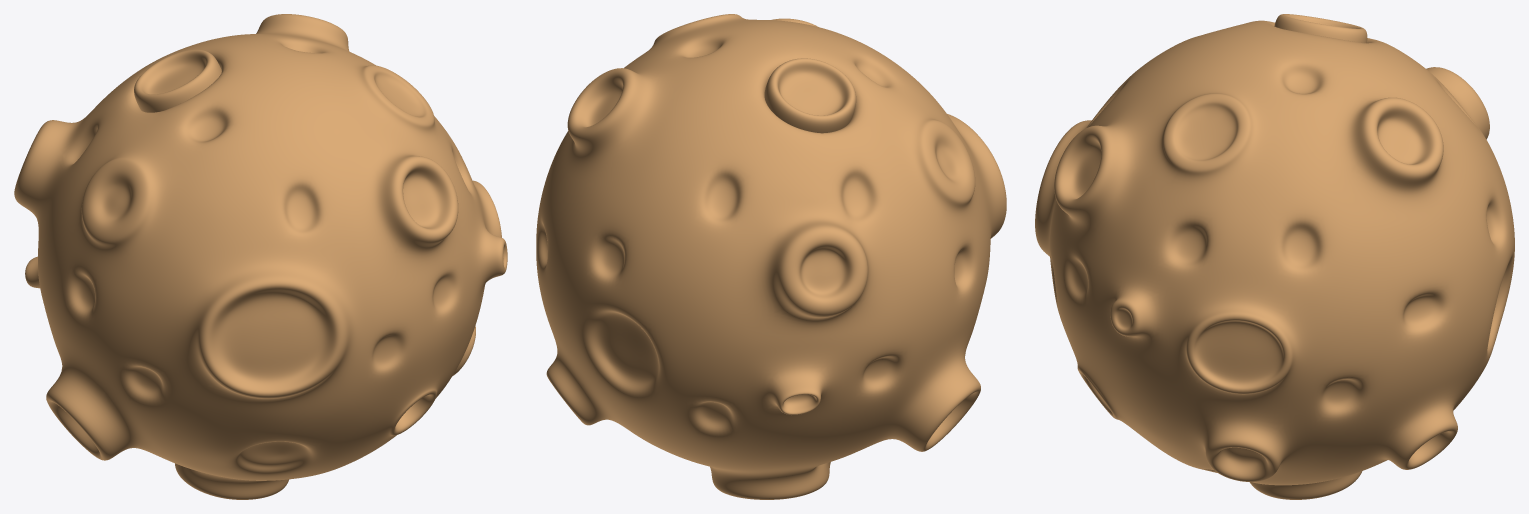
The model's file is planet-1.glb.
The picture shows the model from 3 angles, left to right: view 1: azimuth 30°, elevation 25°; view 2: azimuth 150°, elevation 25°; view 3: azimuth 270°, elevation 25°; orthographic projection. The views are drawn at different scales.
Visible parts, largest first — view 1: Roundcube; view 2: Roundcube; view 3: Roundcube.
Boxes of the visible parts, x1,y1,x2,y2 form: Roundcube: (14,14,507,499); Roundcube: (536,14,1006,499); Roundcube: (1035,14,1514,499).
Bounding box in the file's own units: 1.65 × 1.64 × 1.6.
